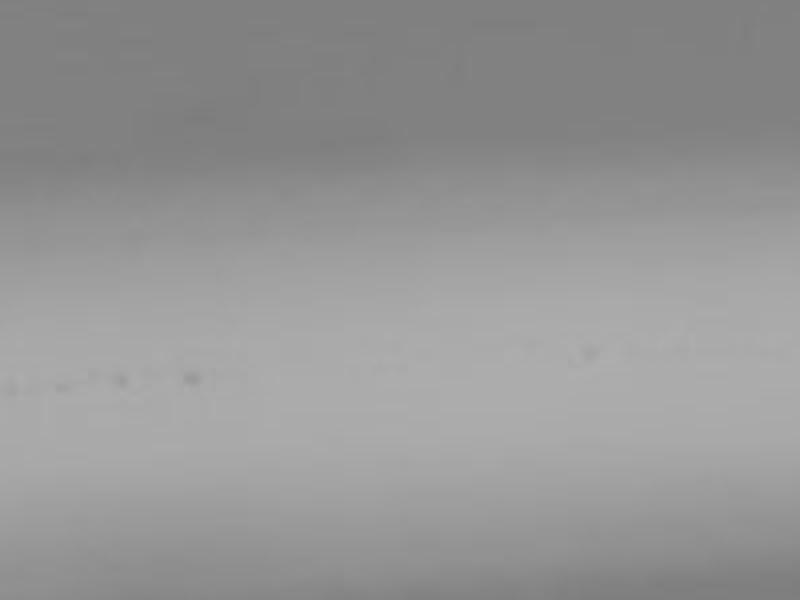defect: (578, 340, 605, 369), (56, 379, 84, 398), (183, 369, 205, 389), (112, 371, 128, 390)
